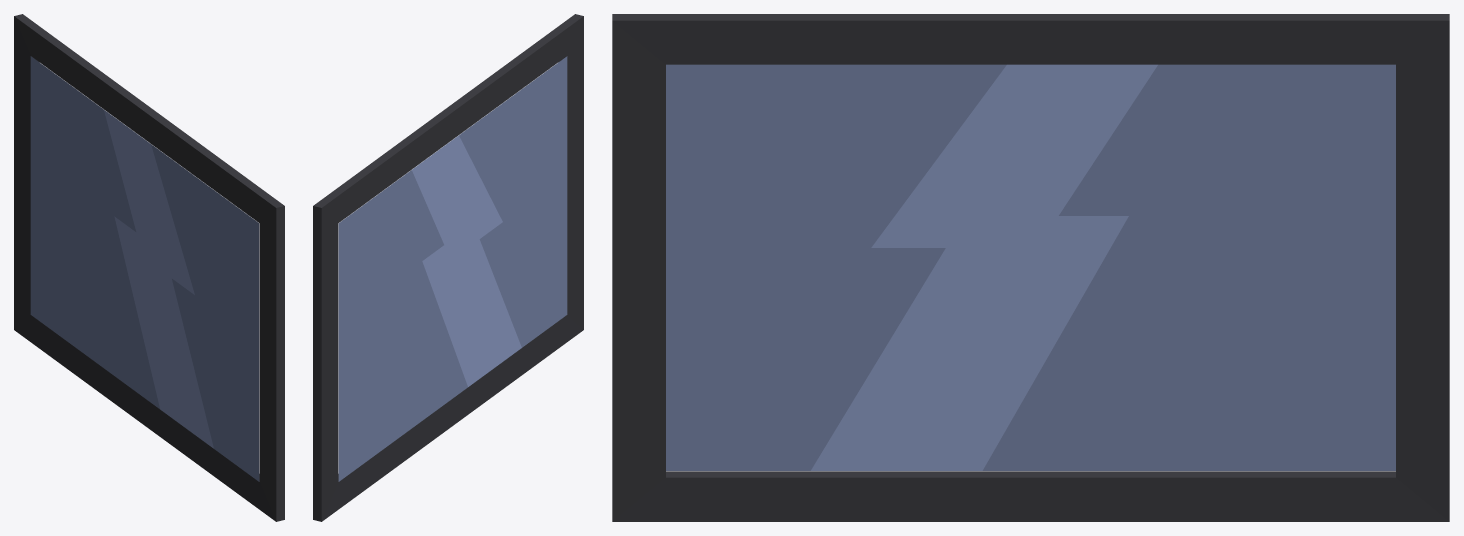
Rendered from window.fbx.
3 renders of one model, left to right at view 1: azimuth 30°, elevation 25°; view 2: azimuth 150°, elevation 25°; view 3: azimuth 270°, elevation 25°, orthographic. The views are drawn at different scales.
Visible parts, largest first — view 1: window.003; view 2: window.003; view 3: window.003.
Part boxes in pixels (x1,y1,x2,y2): window.003: [14, 14, 284, 521]; window.003: [313, 14, 583, 521]; window.003: [612, 14, 1449, 521].
Bounding box in the file's own units: 4.07 × 139 × 210.
